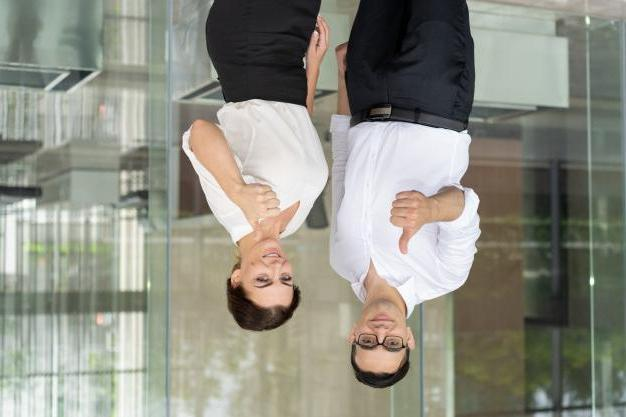thumbsdown: (389, 190, 422, 255), (253, 184, 281, 243)
